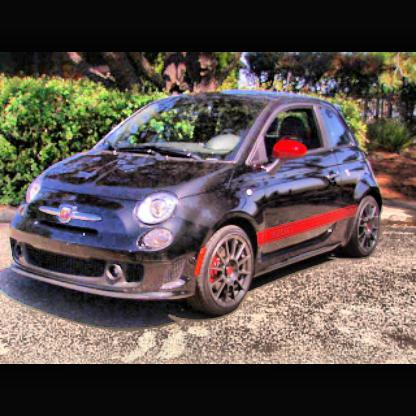FIAT 500 Abarth 2012: (9, 89, 386, 321)
